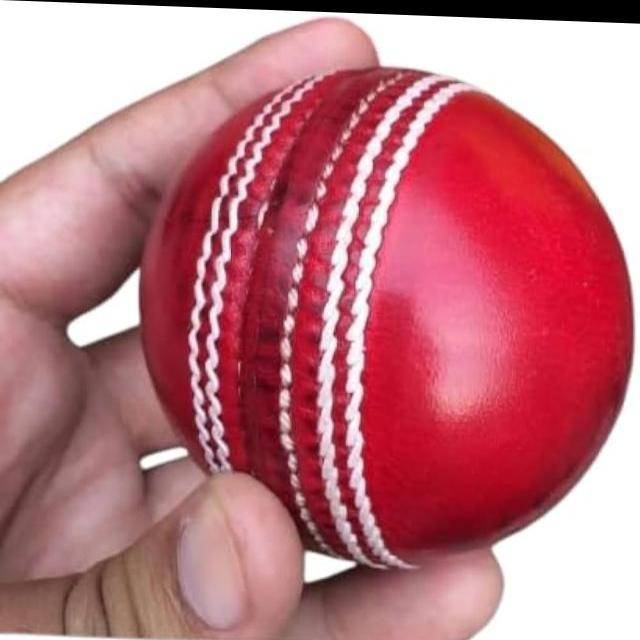cricket ball: (138, 63, 634, 568)
